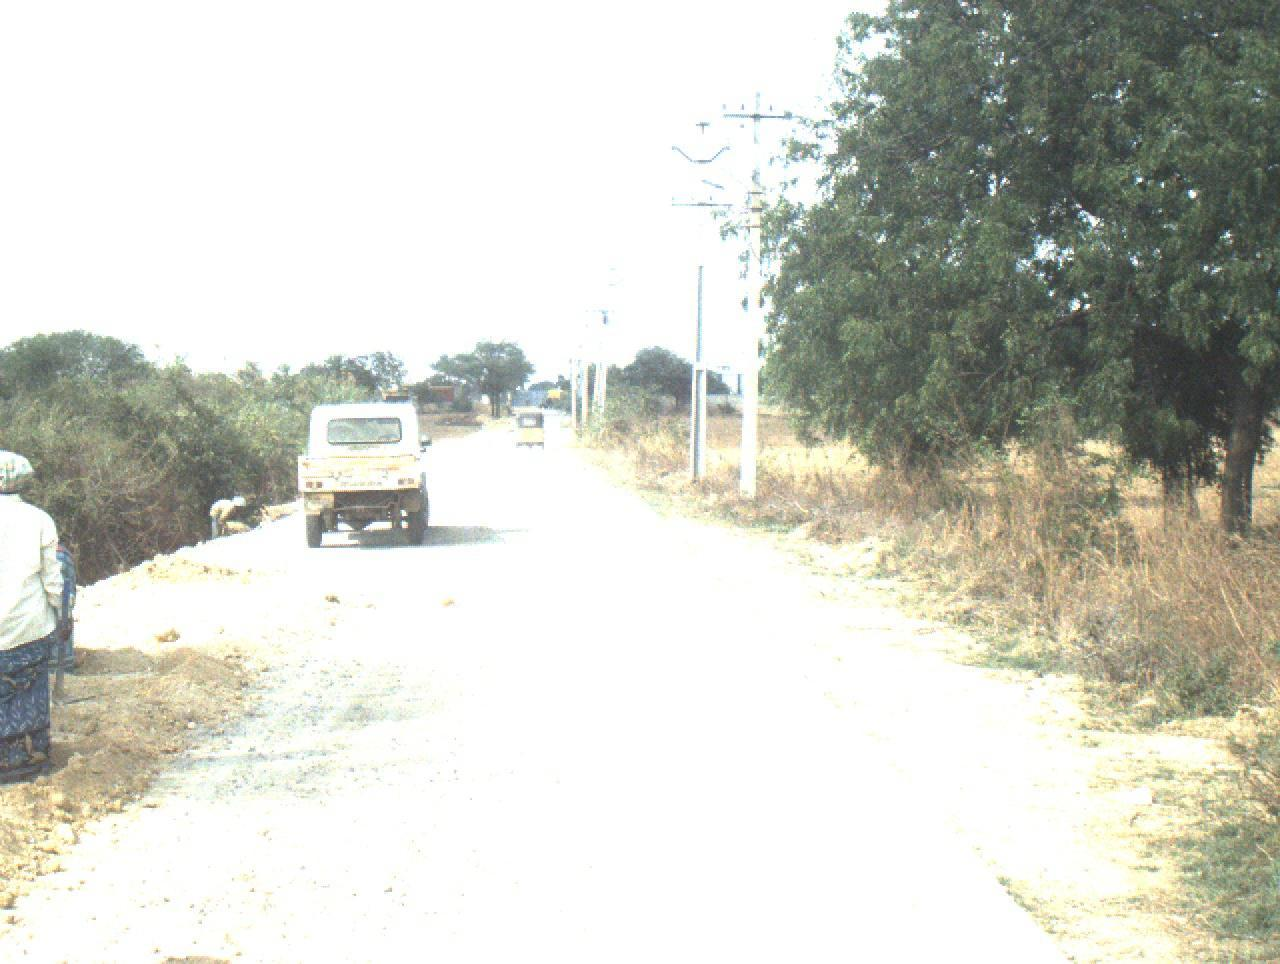off: (0, 0, 1223, 964)
